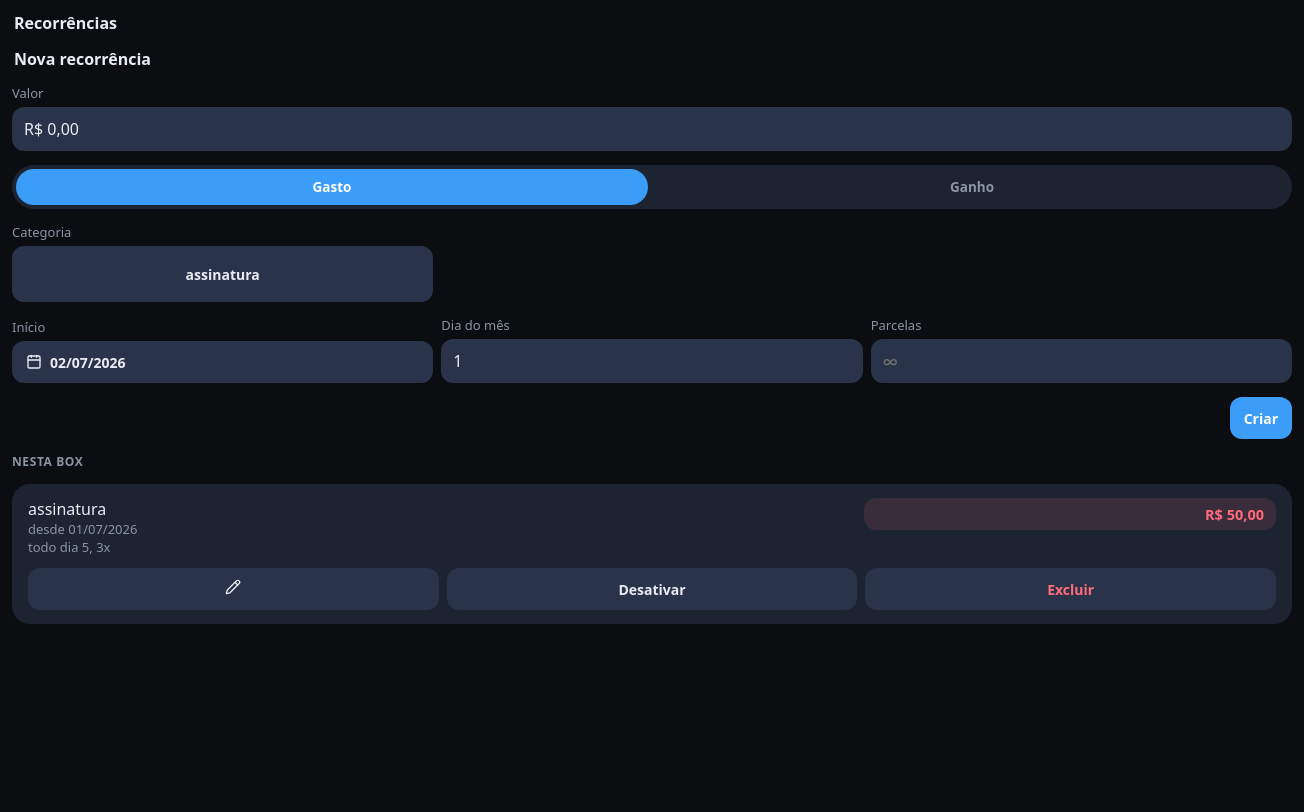
Test: edita o valor de uma recorrência existente e atualiza os previstos remanescentes
Click the button named "Editar".
click(233, 589)  # box 28,568 -> 439,610
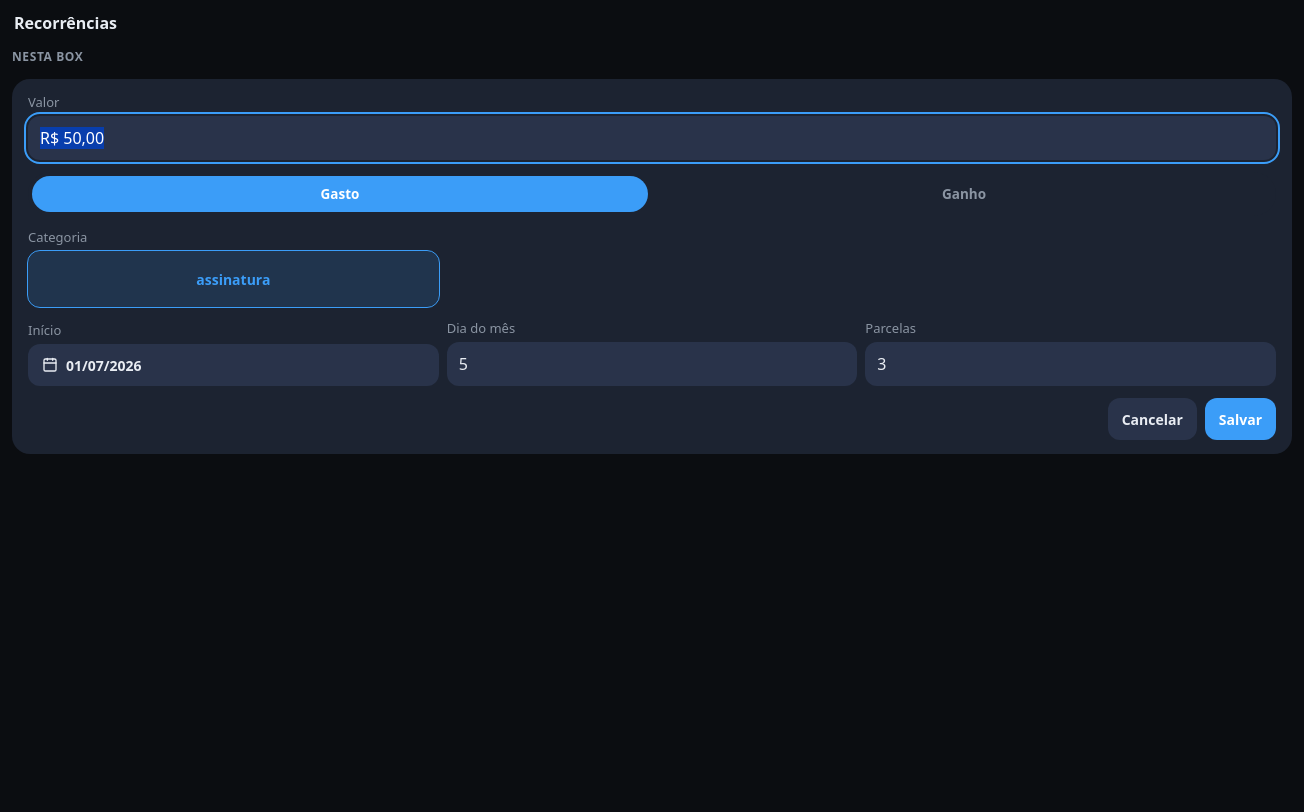
Replace the text in the field labelled "Valor" with "75,00" at {"x": 652, "y": 138}, box 28,116 -> 1276,160
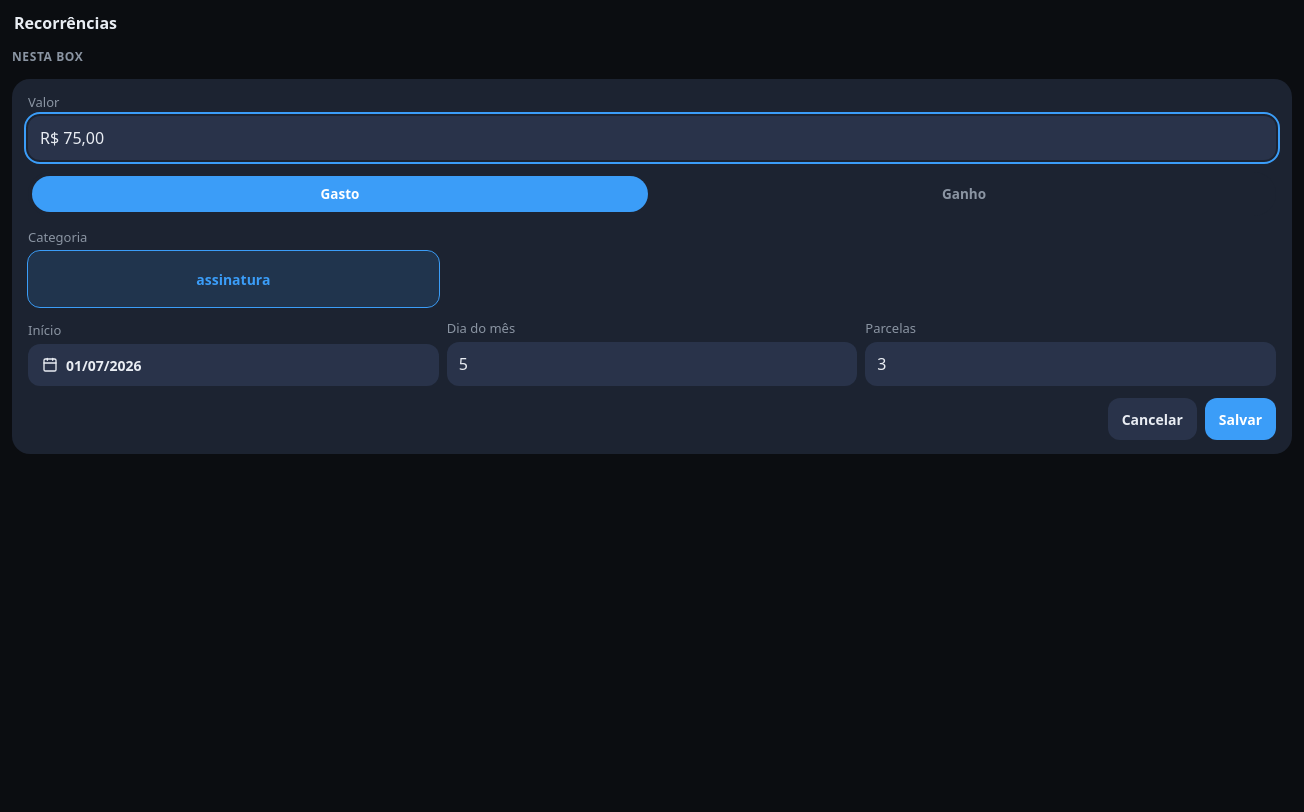
Click the button "Salvar".
click(1240, 419)  # box 1205,398 -> 1276,440
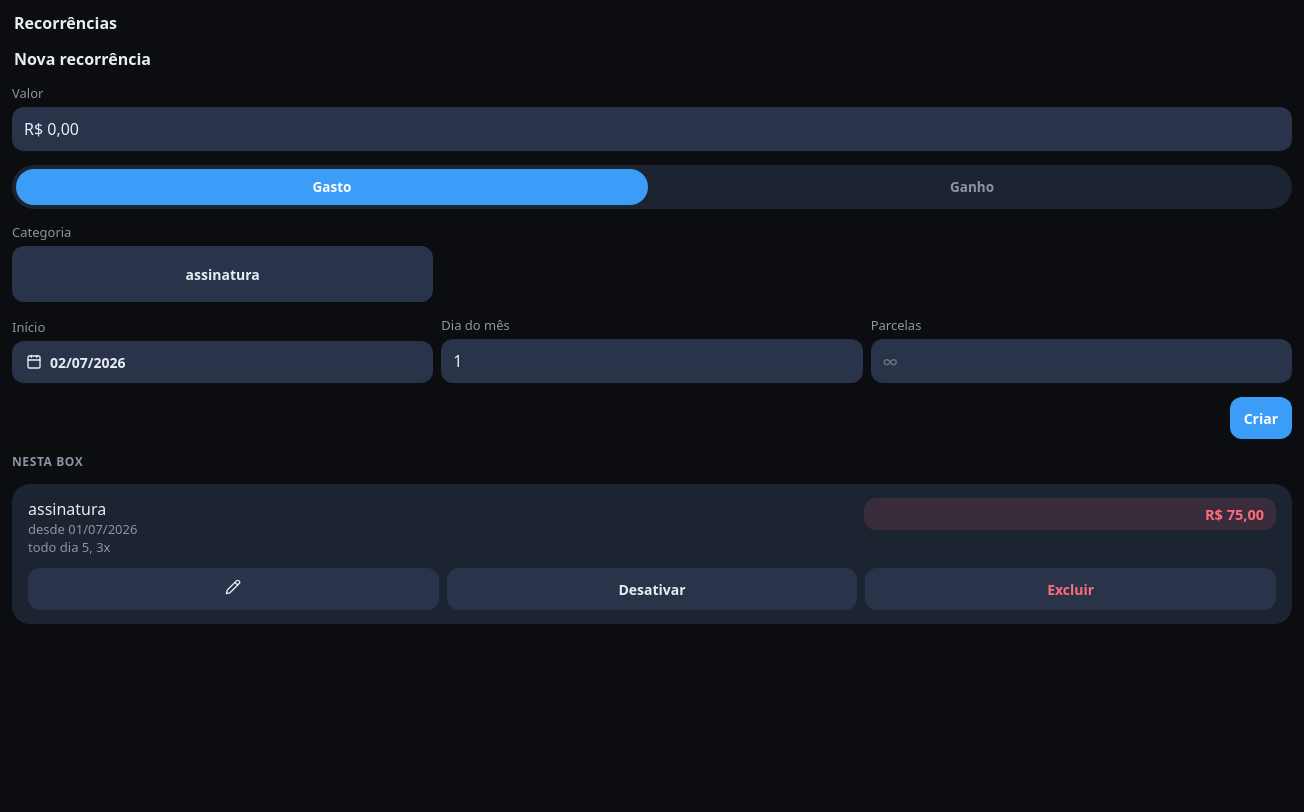
Check: the text "R$ 75,00" is shown, box 864,498 -> 1276,530
